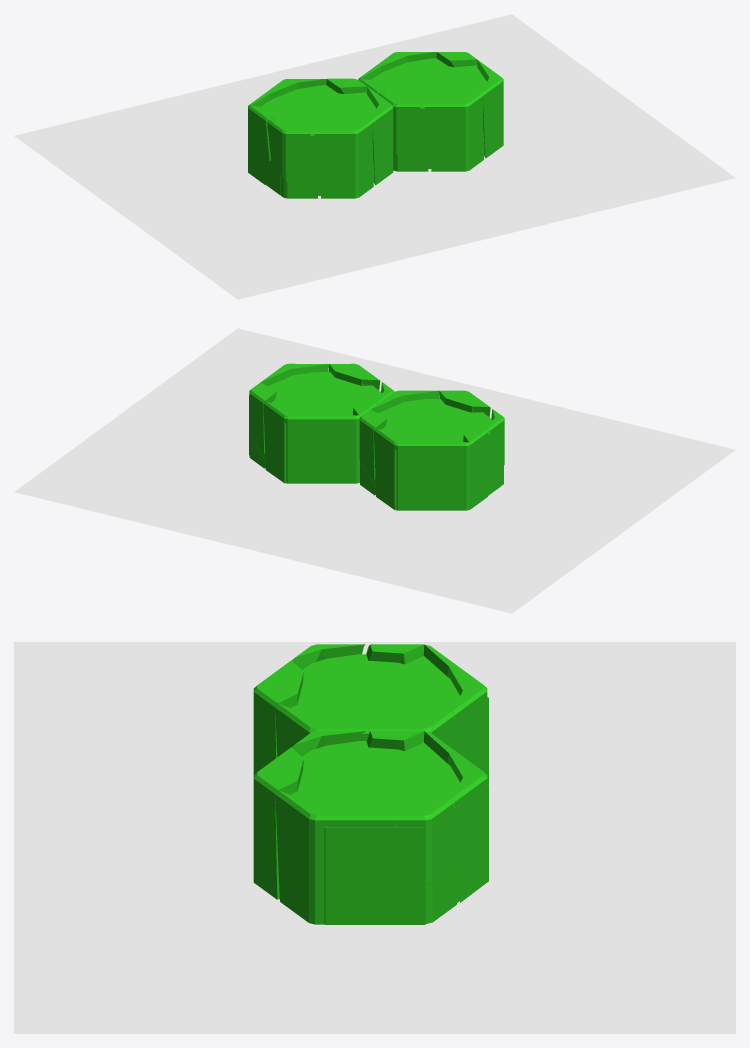
Rendered from UpDown1Sec.fbx.
3 views of the same model, one above another, from view 1: azimuth 30°, elevation 25°; view 2: azimuth 150°, elevation 25°; view 3: azimuth 270°, elevation 25° (orthographic). The views are drawn at different scales.
Visible parts, largest first — view 1: Shadow (×2), HexGib09 (×2), Model (×2), HexGib06 (×2), HexGib01 (×2), HexGib05, HexGib04 (×2), HexGib02 (×2); view 2: Shadow (×2), HexGib04 (×2), Model (×2), HexGib02 (×2), HexGib09 (×2), HexGib05, HexGib01 (×2), HexGib06; view 3: Shadow (×2), Model (×2), HexGib01 (×2), HexGib04 (×2), HexGib09 (×2), HexGib02 (×2), HexGib05 (×2), HexGib06 (×2), HexGib03.
Part boxes in pixels (box(x1,y1,x2,y2)): Shadow (×2): box(14, 14, 735, 299); HexGib09 (×2): box(312, 92, 483, 198); Model (×2): box(260, 58, 486, 195); HexGib06 (×2): box(267, 92, 428, 181); HexGib01 (×2): box(367, 60, 503, 185); HexGib05: box(248, 106, 275, 184); HexGib04 (×2): box(248, 52, 436, 107); HexGib02 (×2): box(326, 52, 477, 93); Shadow (×2): box(14, 328, 735, 613); HexGib04 (×2): box(263, 401, 470, 510); Model (×2): box(249, 372, 500, 510); HexGib02 (×2): box(249, 382, 387, 481); HexGib09 (×2): box(329, 363, 490, 417); HexGib05: box(463, 428, 491, 509); HexGib01 (×2): box(260, 363, 439, 412); HexGib06: box(487, 409, 504, 465); Shadow (×2): box(14, 642, 735, 1033); Model (×2): box(290, 654, 488, 924); HexGib01 (×2): box(275, 703, 396, 924); HexGib04 (×2): box(423, 644, 487, 902); HexGib09 (×2): box(253, 660, 303, 899); HexGib02 (×2): box(395, 711, 455, 883); HexGib05 (×2): box(366, 644, 424, 751); HexGib06 (×2): box(291, 644, 365, 756); HexGib03: box(426, 882, 456, 923).
Bounding box in the file's own units: 2.61 × 0.3461 × 2.04.
